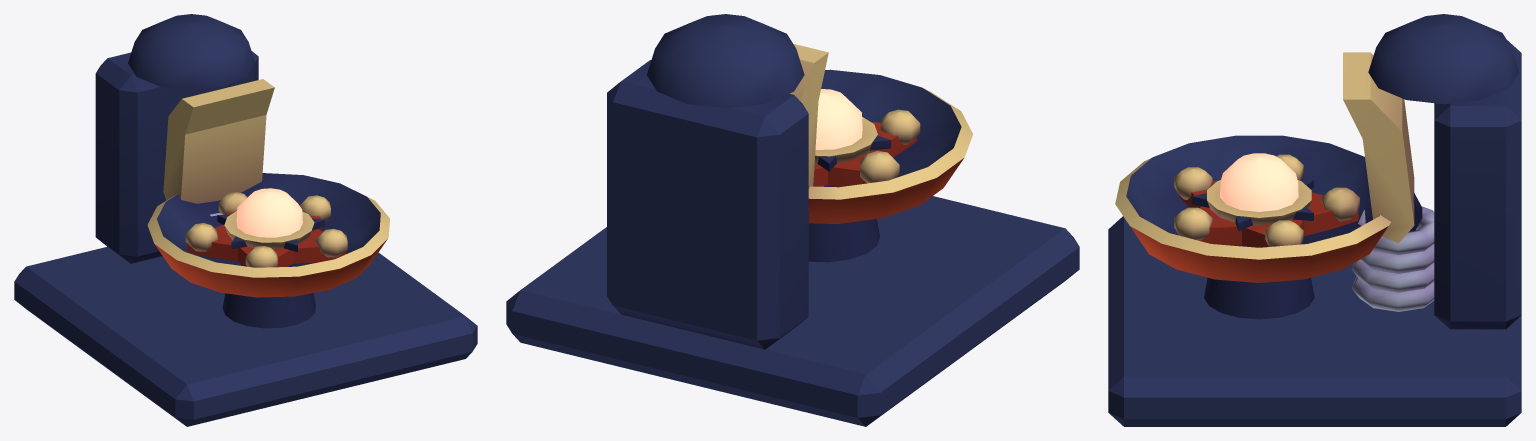
Rendered from R4X_ExplosiveTrapDeployer_LOD1.fbx.
The picture shows the model from 3 angles, left to right: view 1: azimuth 30°, elevation 25°; view 2: azimuth 150°, elevation 25°; view 3: azimuth 270°, elevation 25°; orthographic projection. The views are drawn at different scales.
Parts seen in each view (by area): view 1: R4X_ExplosiveTrapDeployer_LOD1; view 2: R4X_ExplosiveTrapDeployer_LOD1; view 3: R4X_ExplosiveTrapDeployer_LOD1.
Boxes of the visible parts, left/top/right/bottom form: R4X_ExplosiveTrapDeployer_LOD1: left=14, top=14, right=477, bottom=426; R4X_ExplosiveTrapDeployer_LOD1: left=506, top=14, right=1079, bottom=426; R4X_ExplosiveTrapDeployer_LOD1: left=1108, top=14, right=1521, bottom=426.
Bounding box in the file's own units: 0.52 × 0.446 × 0.52.
